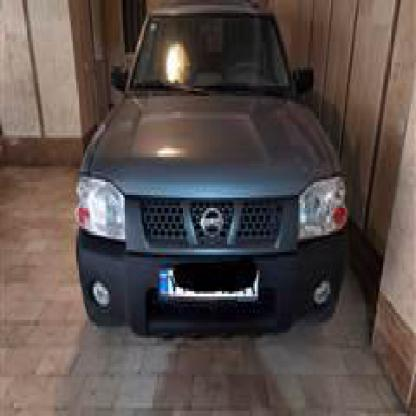car: (54, 8, 355, 364)
